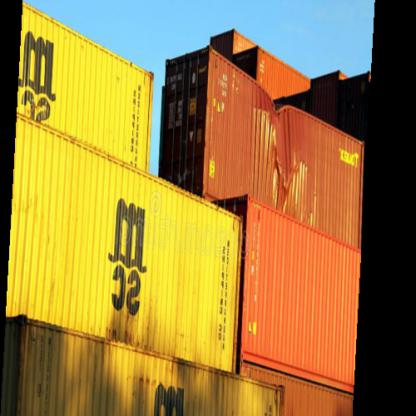Damage: (253, 104, 311, 190)
